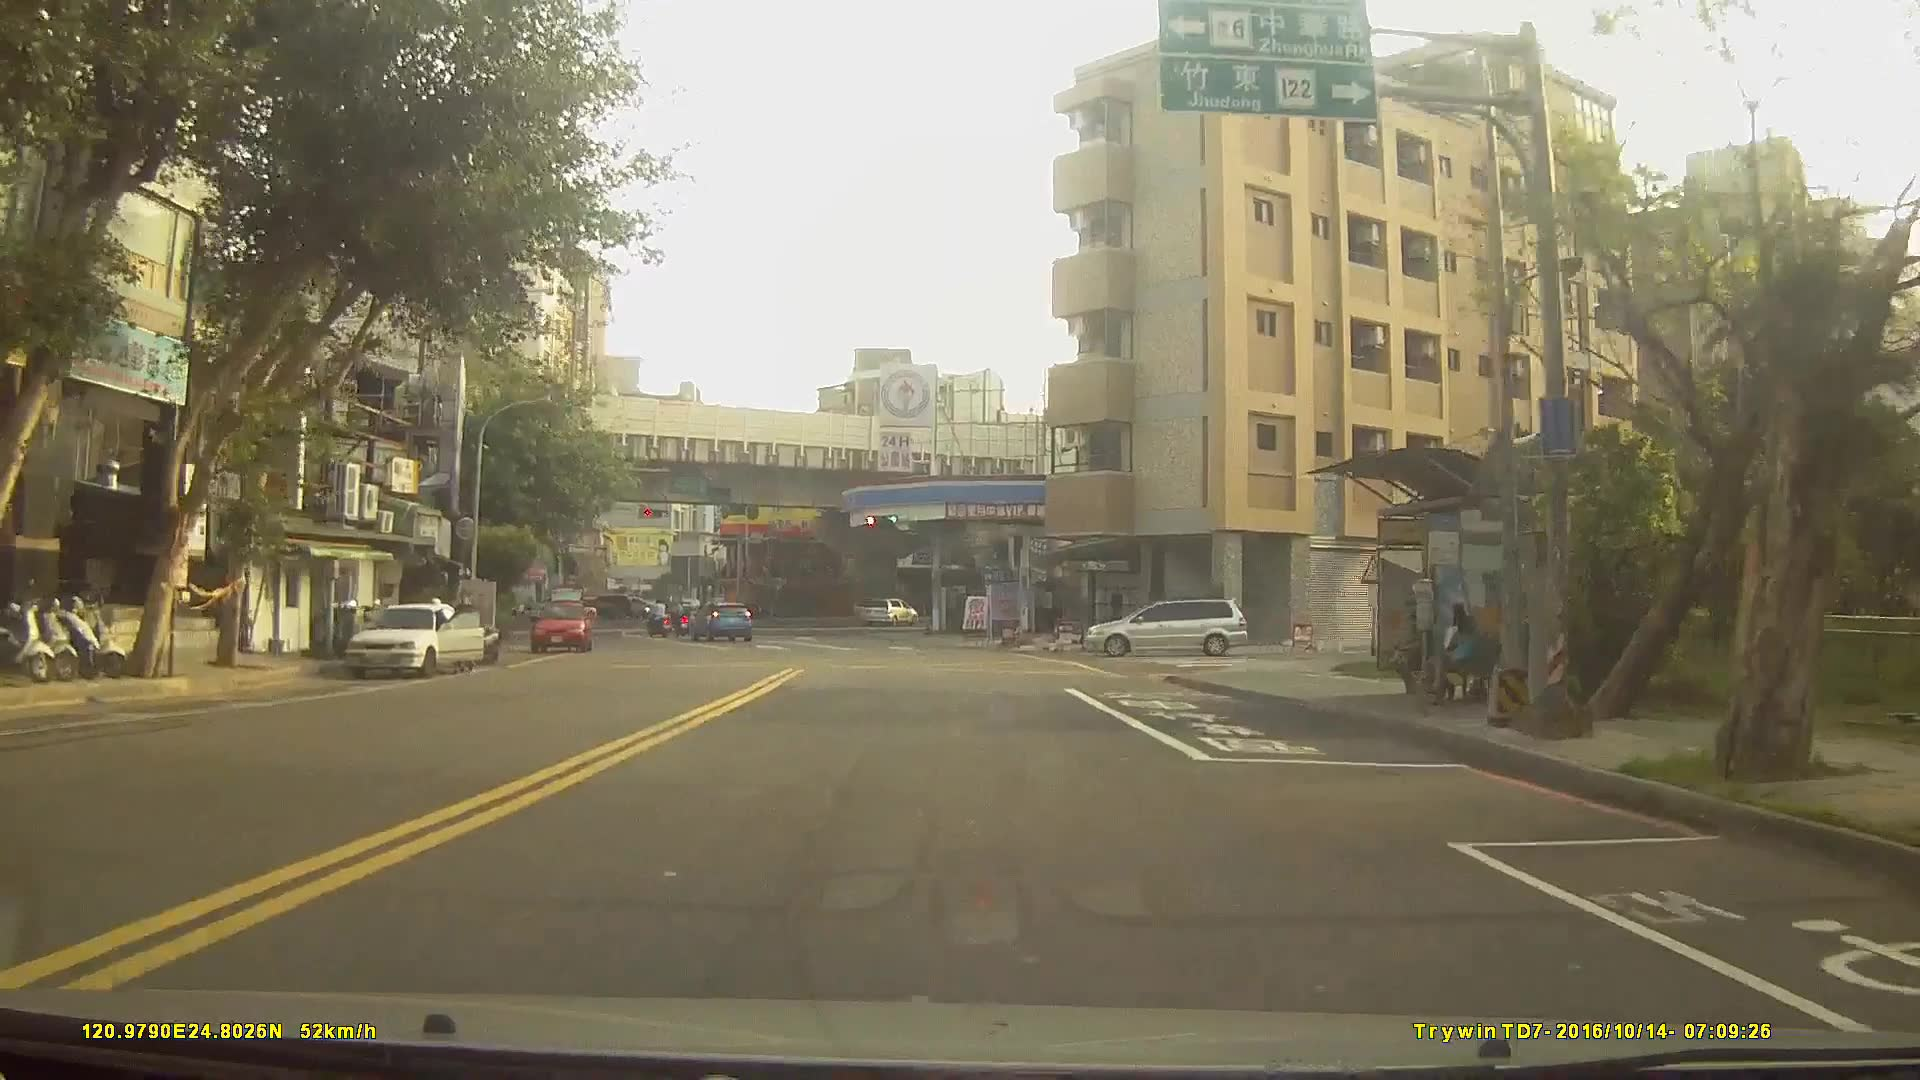pedestrian: (1440, 601, 1480, 705), (1400, 607, 1432, 701)
rider: (646, 598, 674, 643)
vehicle: (343, 599, 486, 680), (1083, 595, 1250, 655), (530, 597, 592, 651), (685, 598, 755, 642), (576, 592, 633, 622), (860, 597, 917, 626)
